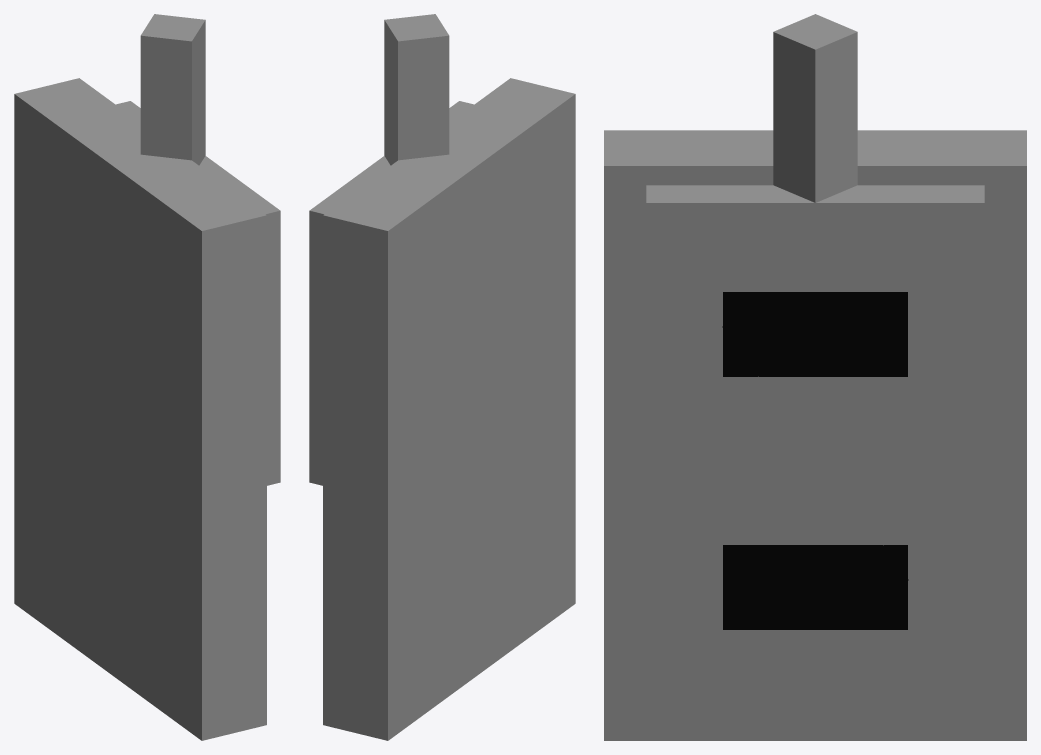
File: func_lever.glb
The picture shows the model from 3 angles, left to right: view 1: azimuth 30°, elevation 25°; view 2: azimuth 150°, elevation 25°; view 3: azimuth 270°, elevation 25°; orthographic projection. The views are drawn at different scales.
Visible parts, largest first — view 1: Base, Switch; view 2: Base, Switch; view 3: Base, Switch.
Part boxes in pixels (x1,y1,x2,y2): Base: [14, 78, 266, 740]; Switch: [116, 14, 280, 485]; Base: [323, 78, 575, 740]; Switch: [309, 14, 473, 485]; Base: [604, 130, 1026, 740]; Switch: [646, 14, 984, 509].
Size of the model in its own units: 0.15 by 0.925 by 0.5.
Materials: 1 (1 with a texture image).
